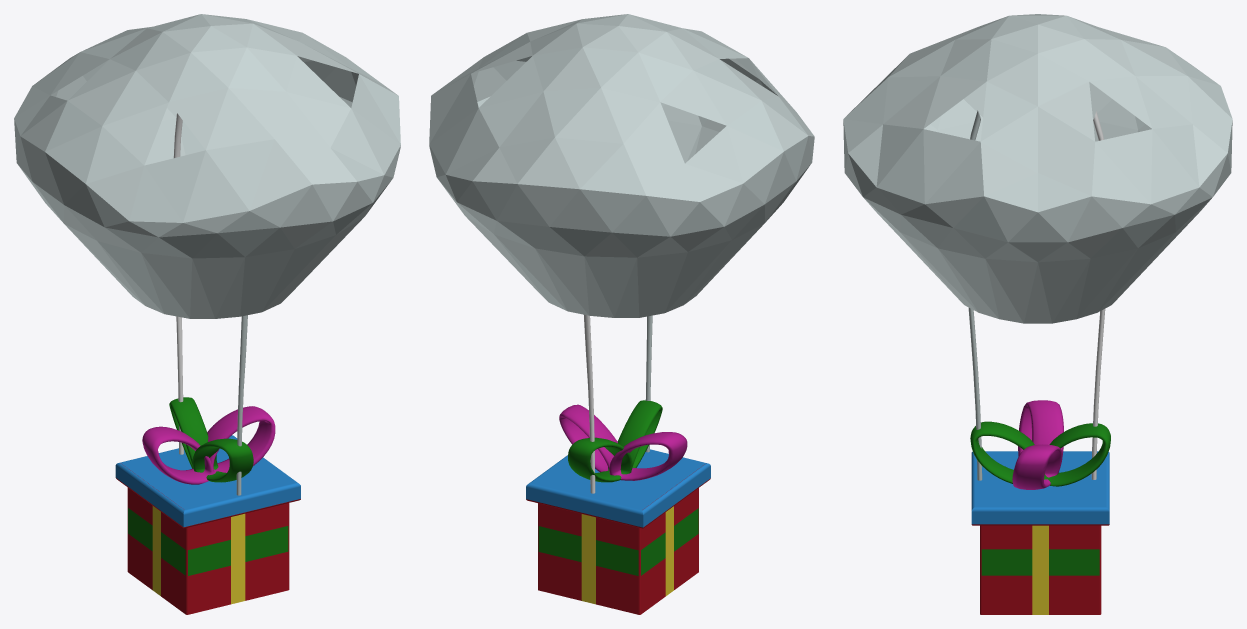
File: present_drop.glb
3 renders of one model, left to right at view 1: azimuth 30°, elevation 25°; view 2: azimuth 150°, elevation 25°; view 3: azimuth 270°, elevation 25°, orthographic. The views are drawn at different scales.
Visible parts, largest first — view 1: present_drop; view 2: present_drop; view 3: present_drop.
Part boxes in pixels (x1,y1,x2,y2): present_drop: (14, 14, 400, 614); present_drop: (429, 14, 814, 614); present_drop: (843, 14, 1232, 614).
Size of the model in its own units: 6.56 by 10.29 by 6.42.
